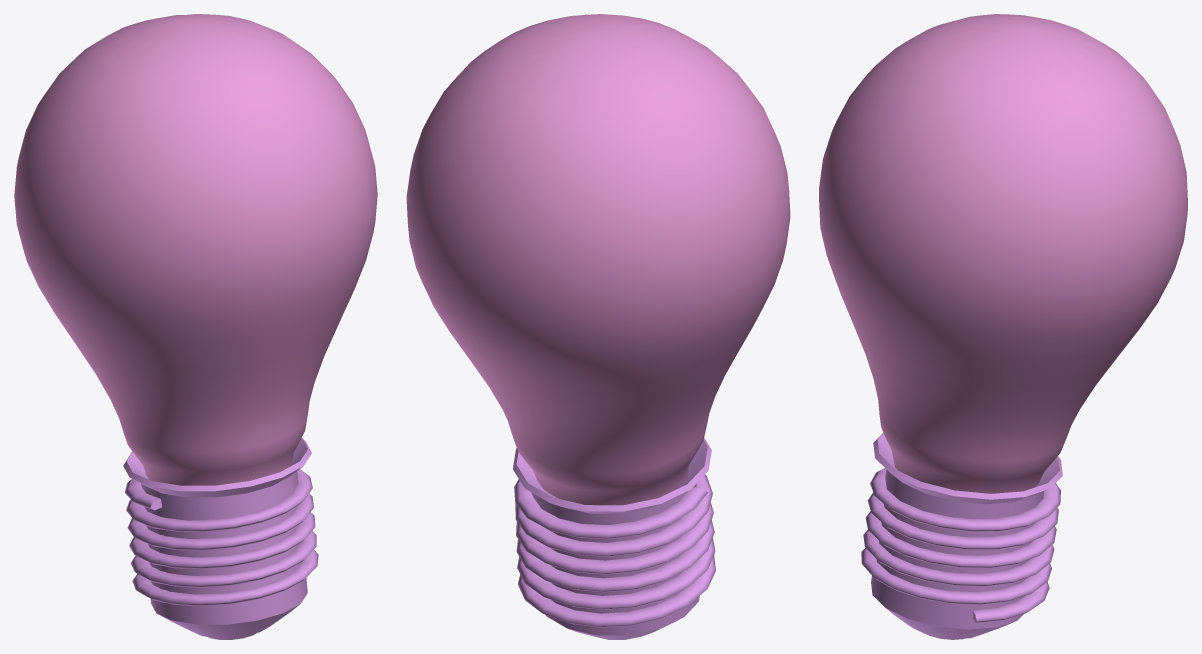
File: lightbulb-2.obj
3 views of the same model, side by side, from view 1: azimuth 30°, elevation 25°; view 2: azimuth 150°, elevation 25°; view 3: azimuth 270°, elevation 25° (orthographic). The views are drawn at different scales.
Parts seen in each view (by area): view 1: Sphere001, Line002; view 2: Sphere001, Line002; view 3: Sphere001, Line002.
Boxes of the visible parts, x1=… form: Sphere001: x1=14, y1=14, x2=377, y2=485; Line002: x1=123, y1=437, x2=318, y2=639; Sphere001: x1=406, y1=14, x2=790, y2=505; Line002: x1=513, y1=438, x2=715, y2=639; Sphere001: x1=819, y1=14, x2=1187, y2=493; Line002: x1=861, y1=433, x2=1062, y2=639.
Size of the model in its own units: 6.57 by 11.7 by 6.56.
